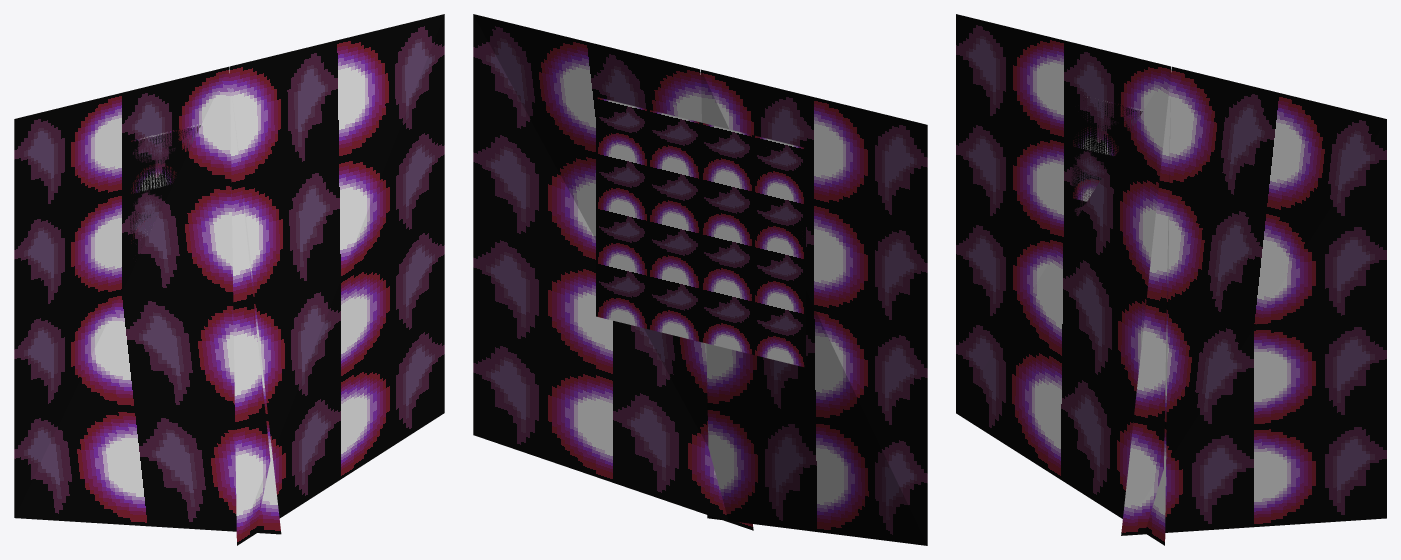
3 views of the same model, side by side, from view 1: azimuth 30°, elevation 25°; view 2: azimuth 150°, elevation 25°; view 3: azimuth 330°, elevation 25° (orthographic). The views are drawn at different scales.
Parts seen in each view (by area): view 1: ef_126; view 2: ef_126; view 3: ef_126.
Part boxes in pixels (<box>): ef_126: <box>14,14,444,545</box>; ef_126: <box>473,14,927,545</box>; ef_126: <box>956,14,1386,545</box>.
Size of the model in its own units: 0.3674 by 0.3694 by 0.0431.
Materials: 1 (1 with a texture image).
